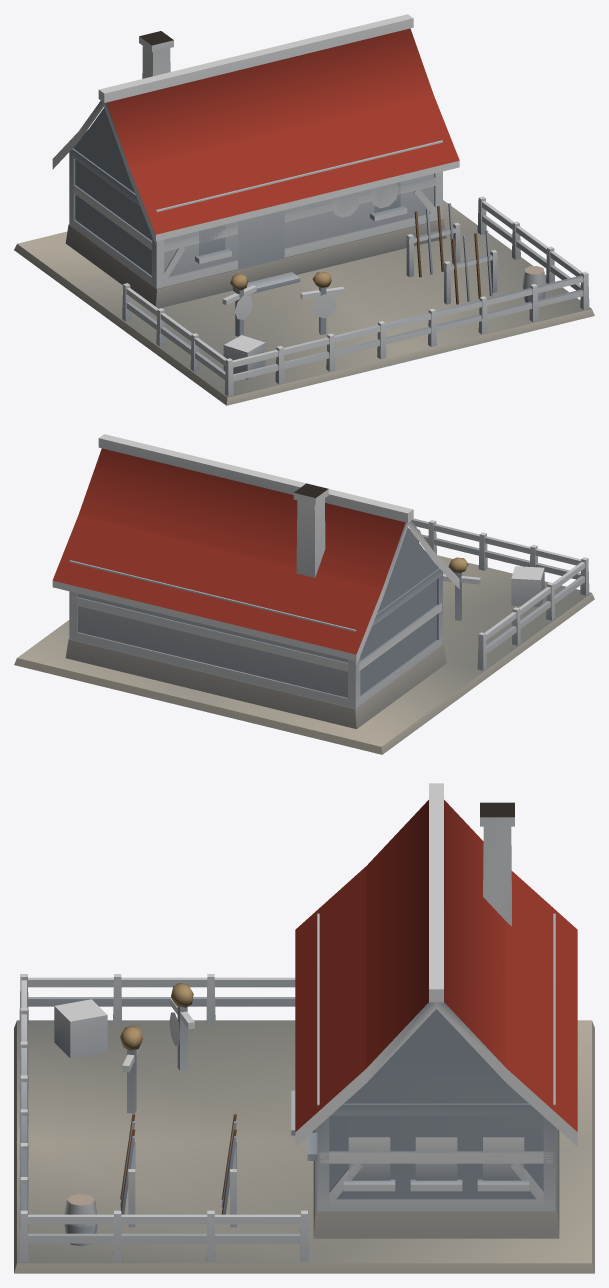
Rendered from barracks_t2.glb.
3 renders of one model, top to bottom at view 1: azimuth 30°, elevation 25°; view 2: azimuth 150°, elevation 25°; view 3: azimuth 270°, elevation 25°, orthographic. The views are drawn at different scales.
Parts seen in each view (by area): view 1: barracks_t2; view 2: barracks_t2; view 3: barracks_t2.
Boxes of the visible parts, x1,y1,x2,y2 form: barracks_t2: [14, 14, 594, 405]; barracks_t2: [14, 434, 594, 754]; barracks_t2: [14, 783, 594, 1273].
Bounding box in the file's own units: 2.86 × 1.57 × 2.86.
